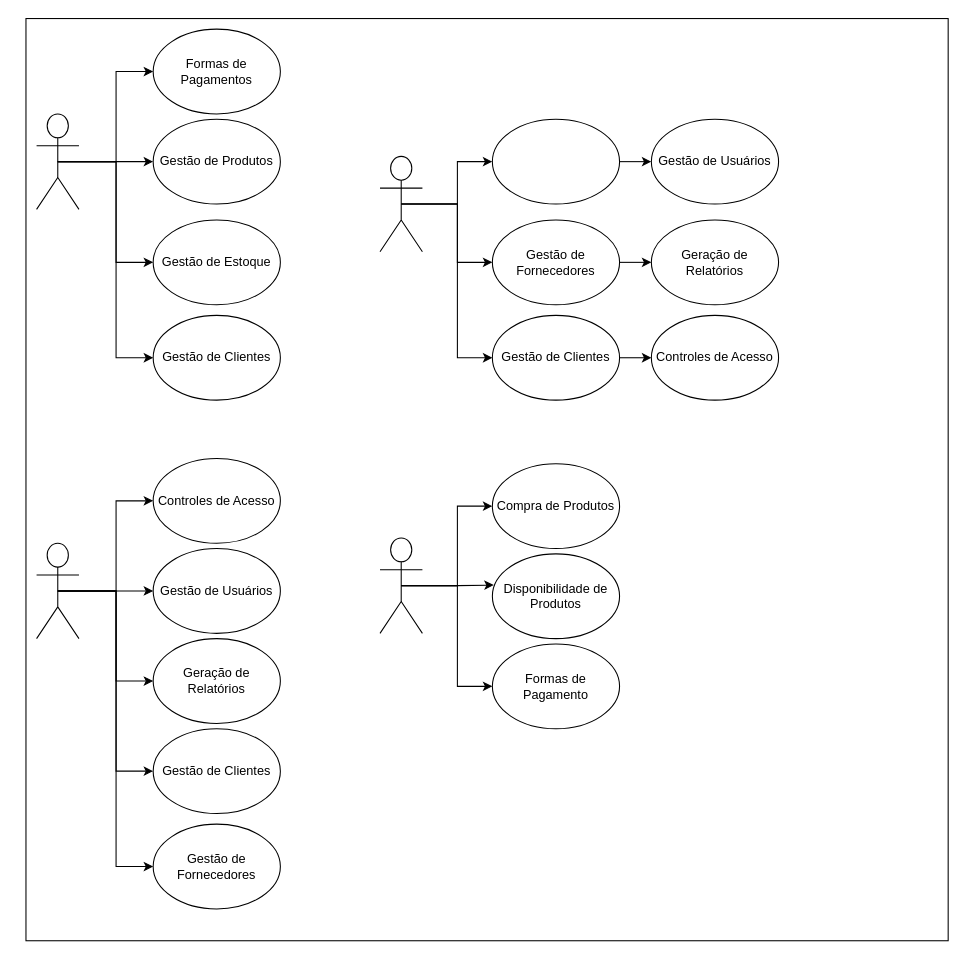
This 967x959 diagram has some shape labels left out. The shapes that lost their labels are listed below. From the top down, each one's centre as x and y in pixels, then its label:
the point at 57,161: Atendente
the point at 555,161: Gestão de Vendas
the point at 400,203: Gerente
the point at 57,590: Administrador
the point at 400,585: Cliente
